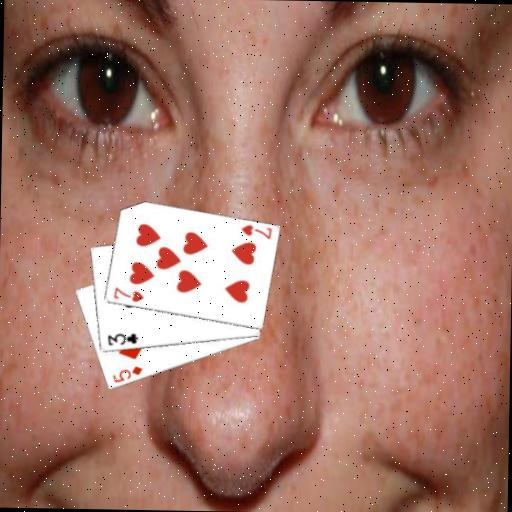3C: (105, 329, 140, 348)
5D: (110, 363, 144, 385)
7H: (111, 284, 146, 304), (238, 222, 273, 241)
